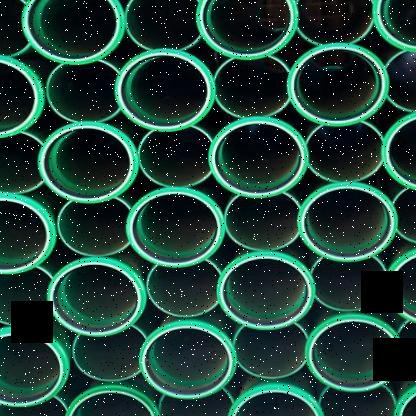pipe: (287, 42, 389, 126), (114, 48, 216, 132), (38, 122, 139, 204), (208, 118, 309, 198), (297, 182, 397, 262), (47, 258, 147, 336), (305, 314, 402, 392), (217, 252, 315, 329), (127, 190, 223, 268), (139, 322, 236, 398), (22, 0, 125, 65), (195, 0, 298, 60), (0, 327, 69, 408), (213, 56, 290, 118), (306, 121, 384, 182), (138, 126, 213, 188), (0, 194, 57, 275), (46, 60, 120, 122), (146, 260, 222, 318), (224, 193, 300, 250), (310, 256, 387, 312), (58, 198, 132, 256), (233, 323, 307, 379), (124, 0, 202, 52), (72, 326, 147, 380), (0, 54, 44, 138), (296, 0, 374, 45), (0, 265, 57, 326), (63, 383, 162, 416), (226, 383, 324, 416), (380, 112, 416, 192), (0, 132, 44, 194), (384, 248, 416, 325), (318, 385, 397, 416), (371, 0, 416, 52), (157, 387, 234, 416), (382, 49, 416, 112), (0, 0, 34, 58), (391, 184, 416, 246), (0, 393, 67, 416), (395, 317, 416, 373)
